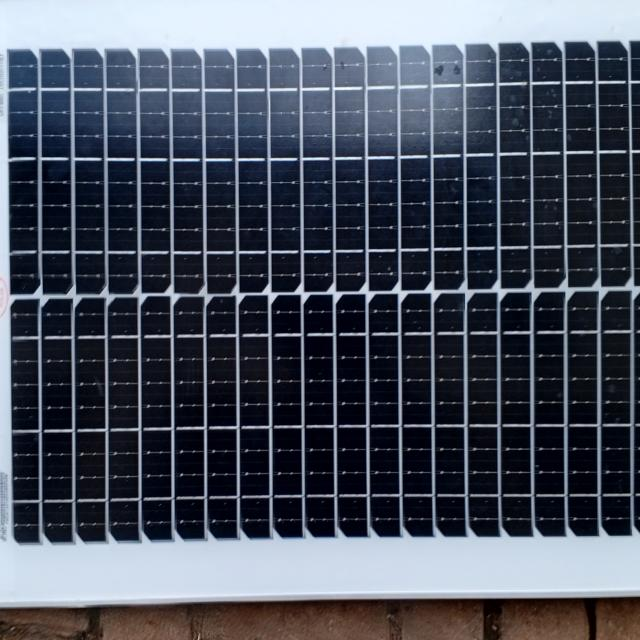Clean: (3, 21, 640, 563)
